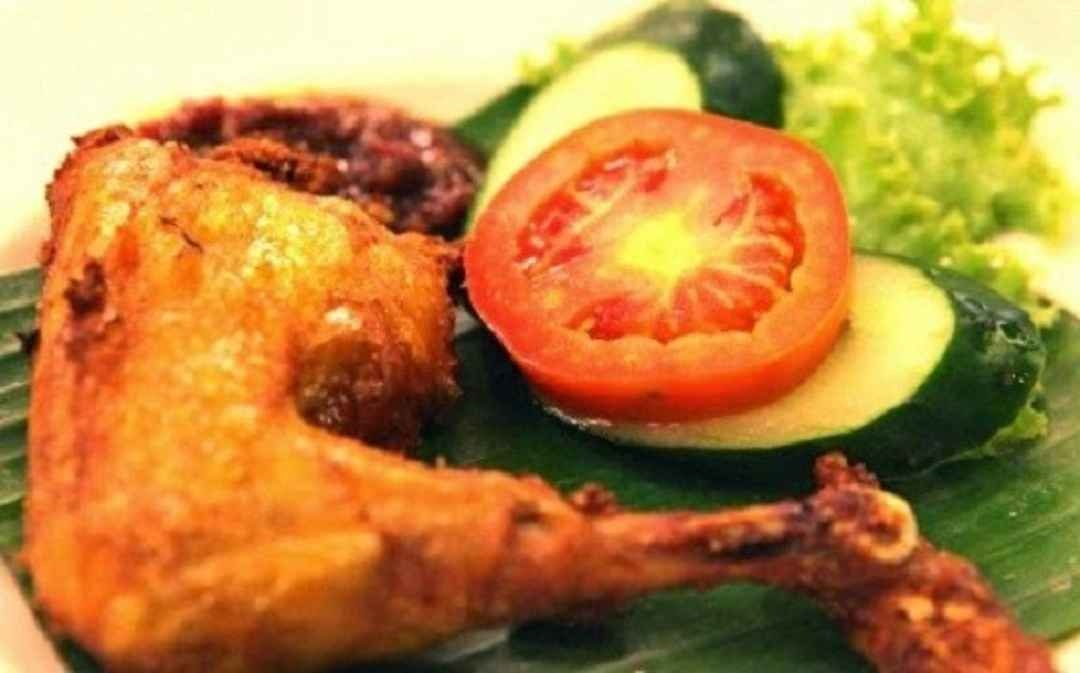ayam_goreng: (25, 106, 920, 671)
